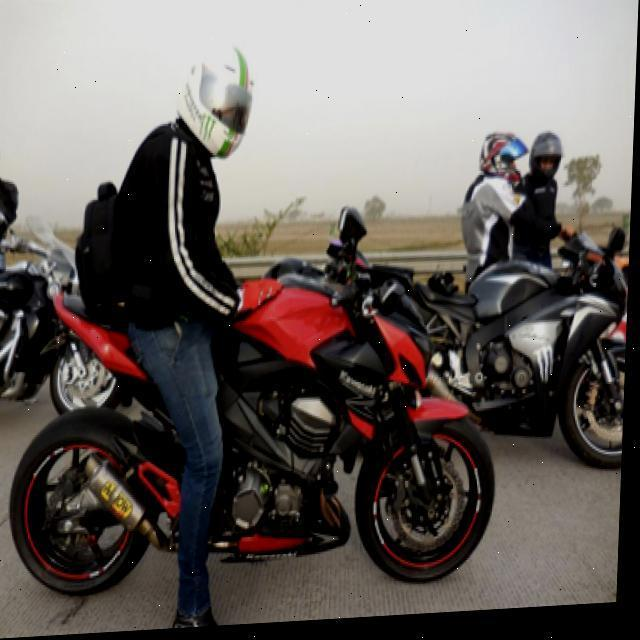Helmet: (172, 44, 255, 164), (482, 133, 525, 186), (533, 133, 563, 185)
